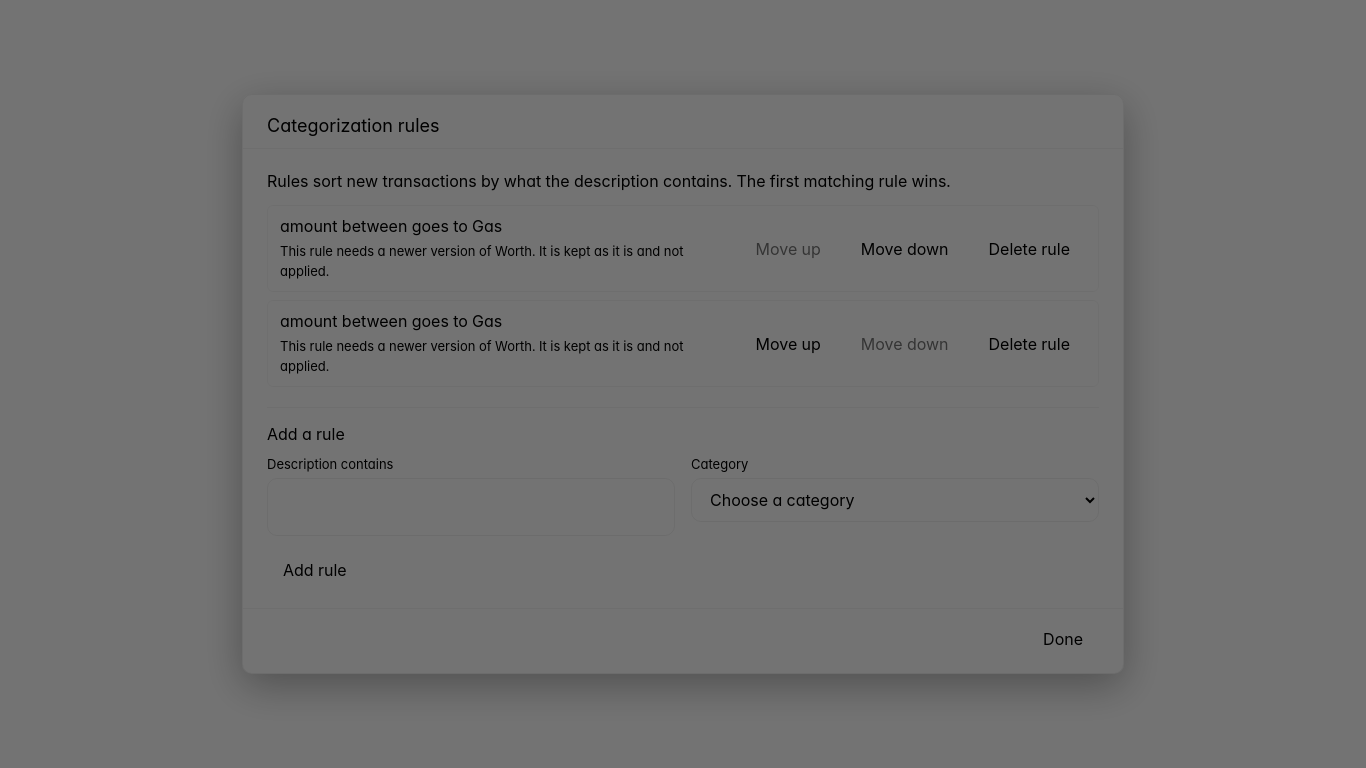
RulesDialog › changes the live-region DOM text even when two deletes produce identical announcements
Click the button with aria-label "Delete rule: amount between" at (1029, 248), box x1=972 y1=230 x2=1086 y2=266
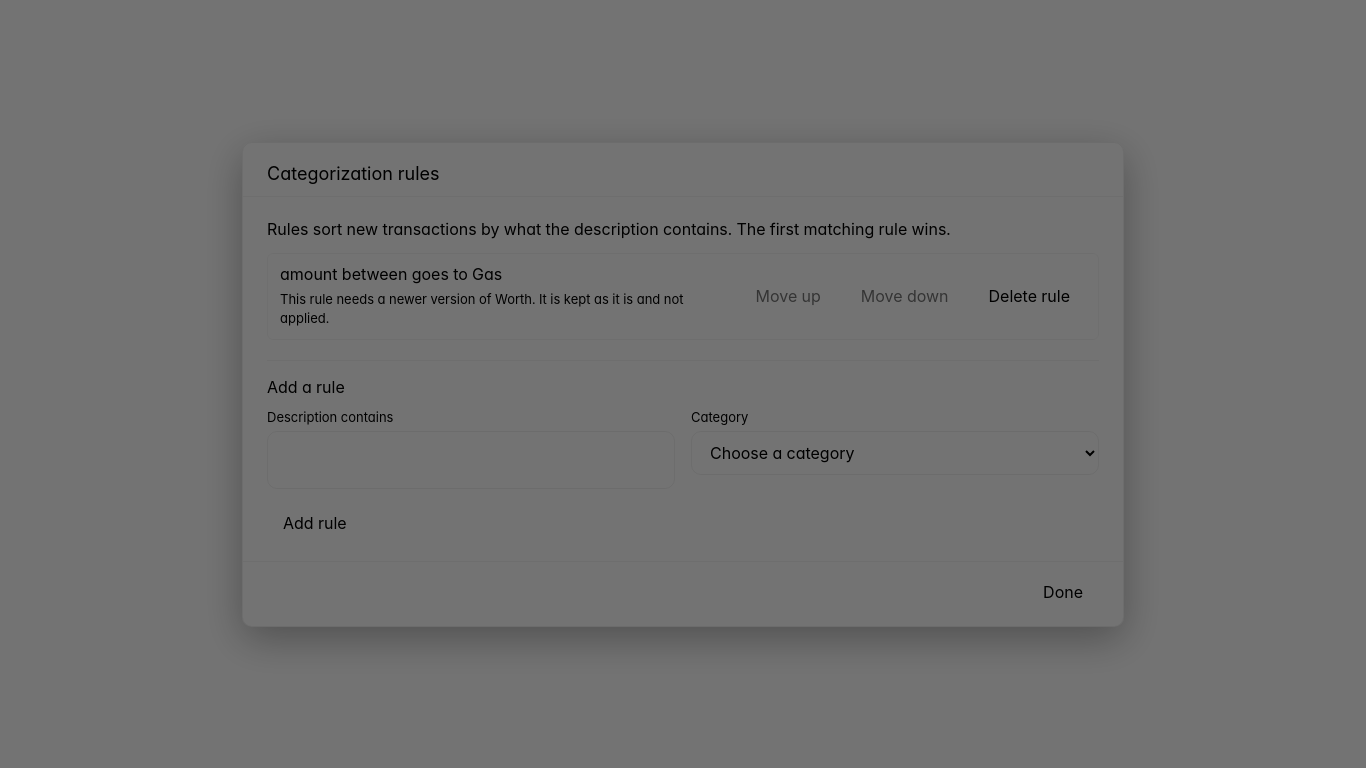
Result: the number of list items is 1 at x1=267 y1=252 x2=1099 y2=340
Click the button with aria-label "Delete rule: amount between" at (1029, 296), box x1=972 y1=278 x2=1086 y2=314
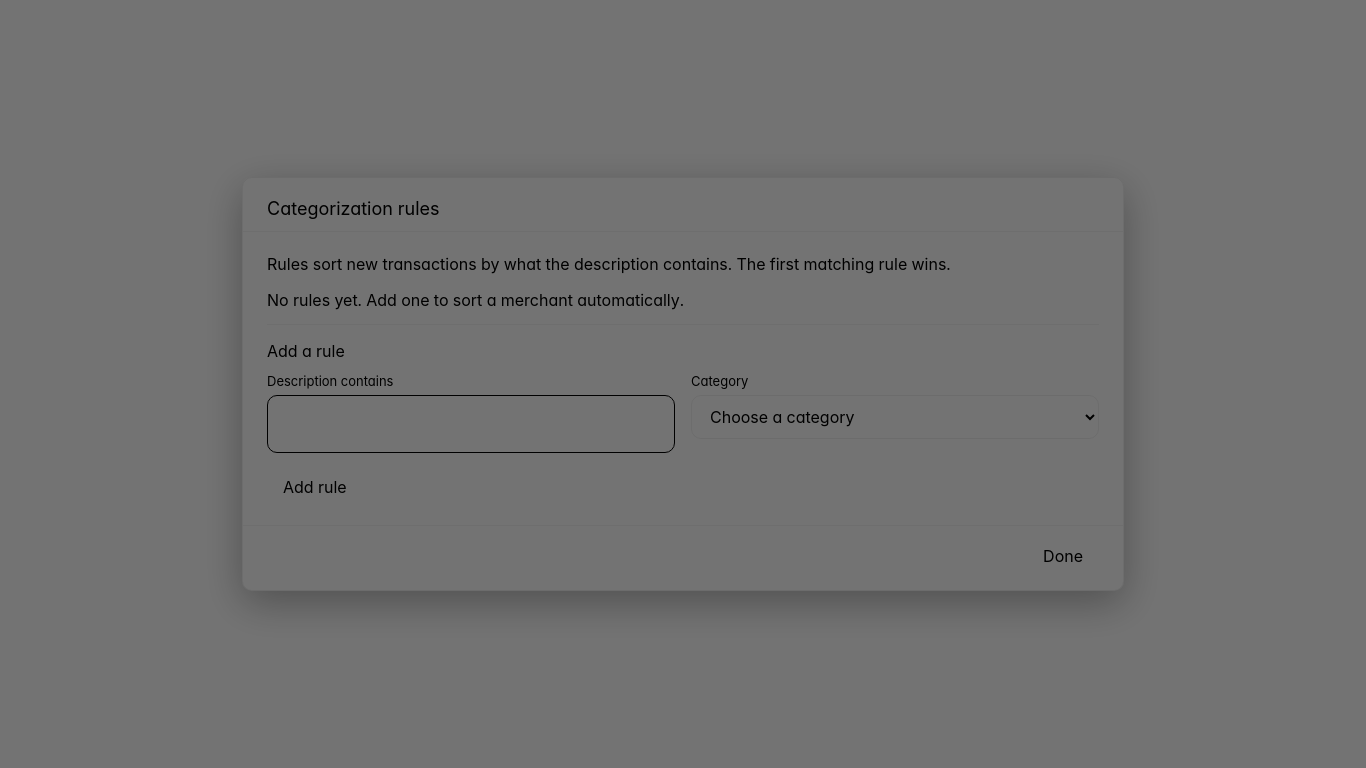
Expected: the message does not show "Rule deleted: amount between."
Result: the text "No rules yet. Add one to sort a merchant automatically." is shown at x1=267 y1=290 x2=684 y2=310
